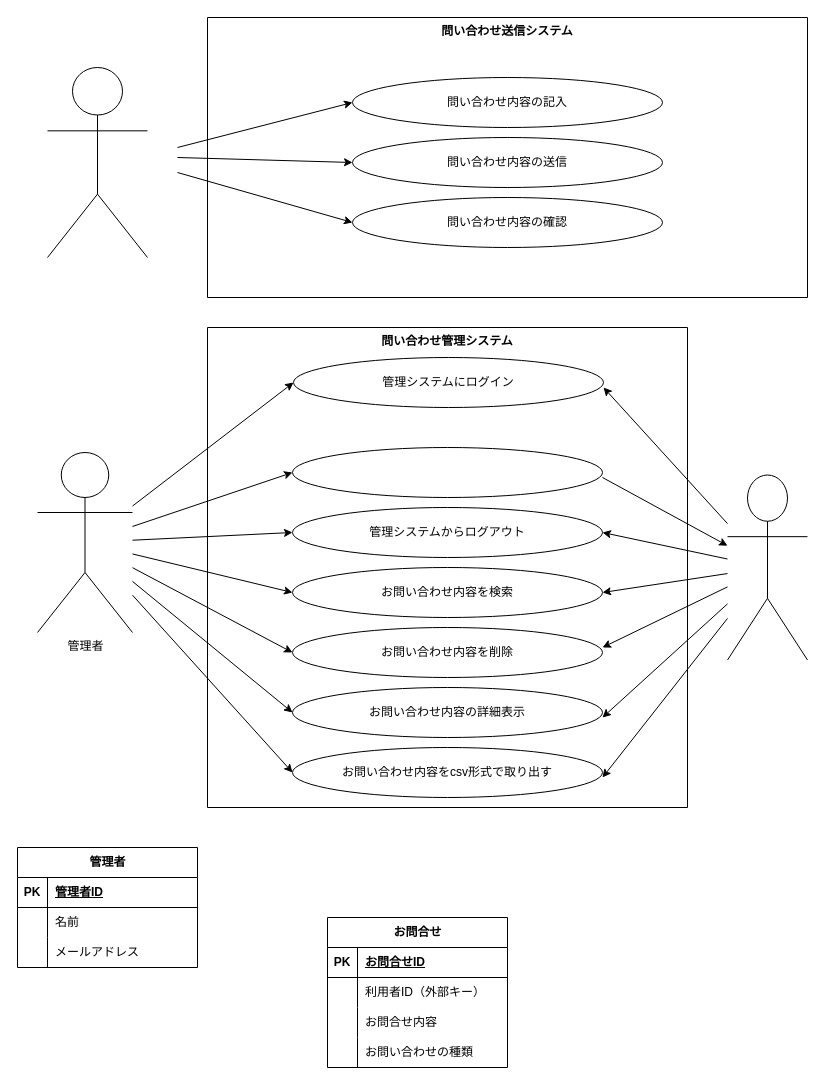
This 825x1085 diagram has some shape labels left out. The shapes that lost their labels are listed below. From the top down, each one's centre as x and y in pixels, then its label:
At (97,162): "利用者".
At (447,472): "新規ユーザーの作成・登録".
At (767,567): "新規管理者".
